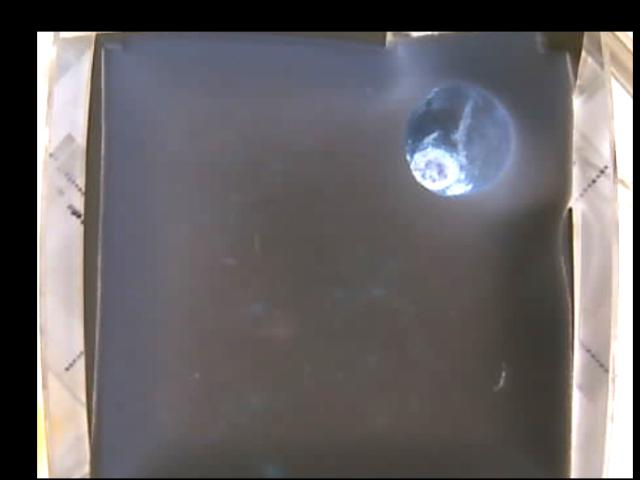Mooli: (404, 80, 515, 197)
